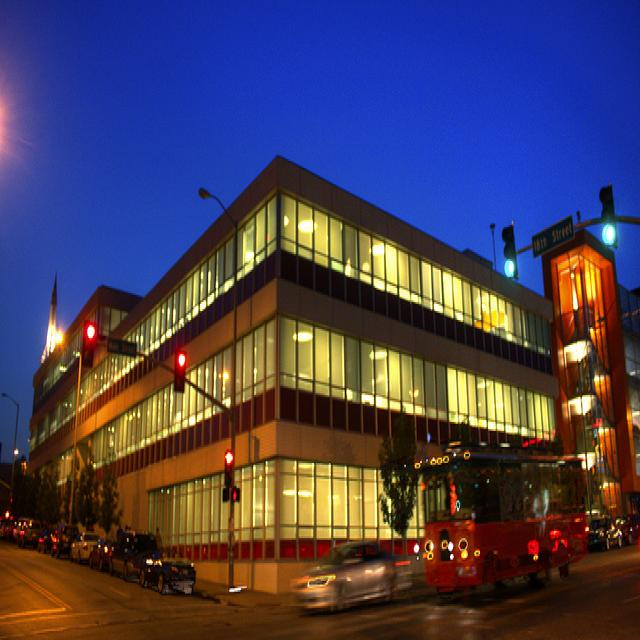Vehicle: (417, 437, 592, 591), (294, 538, 414, 614), (140, 549, 196, 593), (110, 532, 157, 580), (590, 517, 623, 553), (70, 533, 100, 564), (56, 523, 80, 559), (89, 541, 115, 572), (614, 514, 640, 544), (18, 521, 42, 551), (37, 526, 57, 554), (13, 519, 32, 544)
